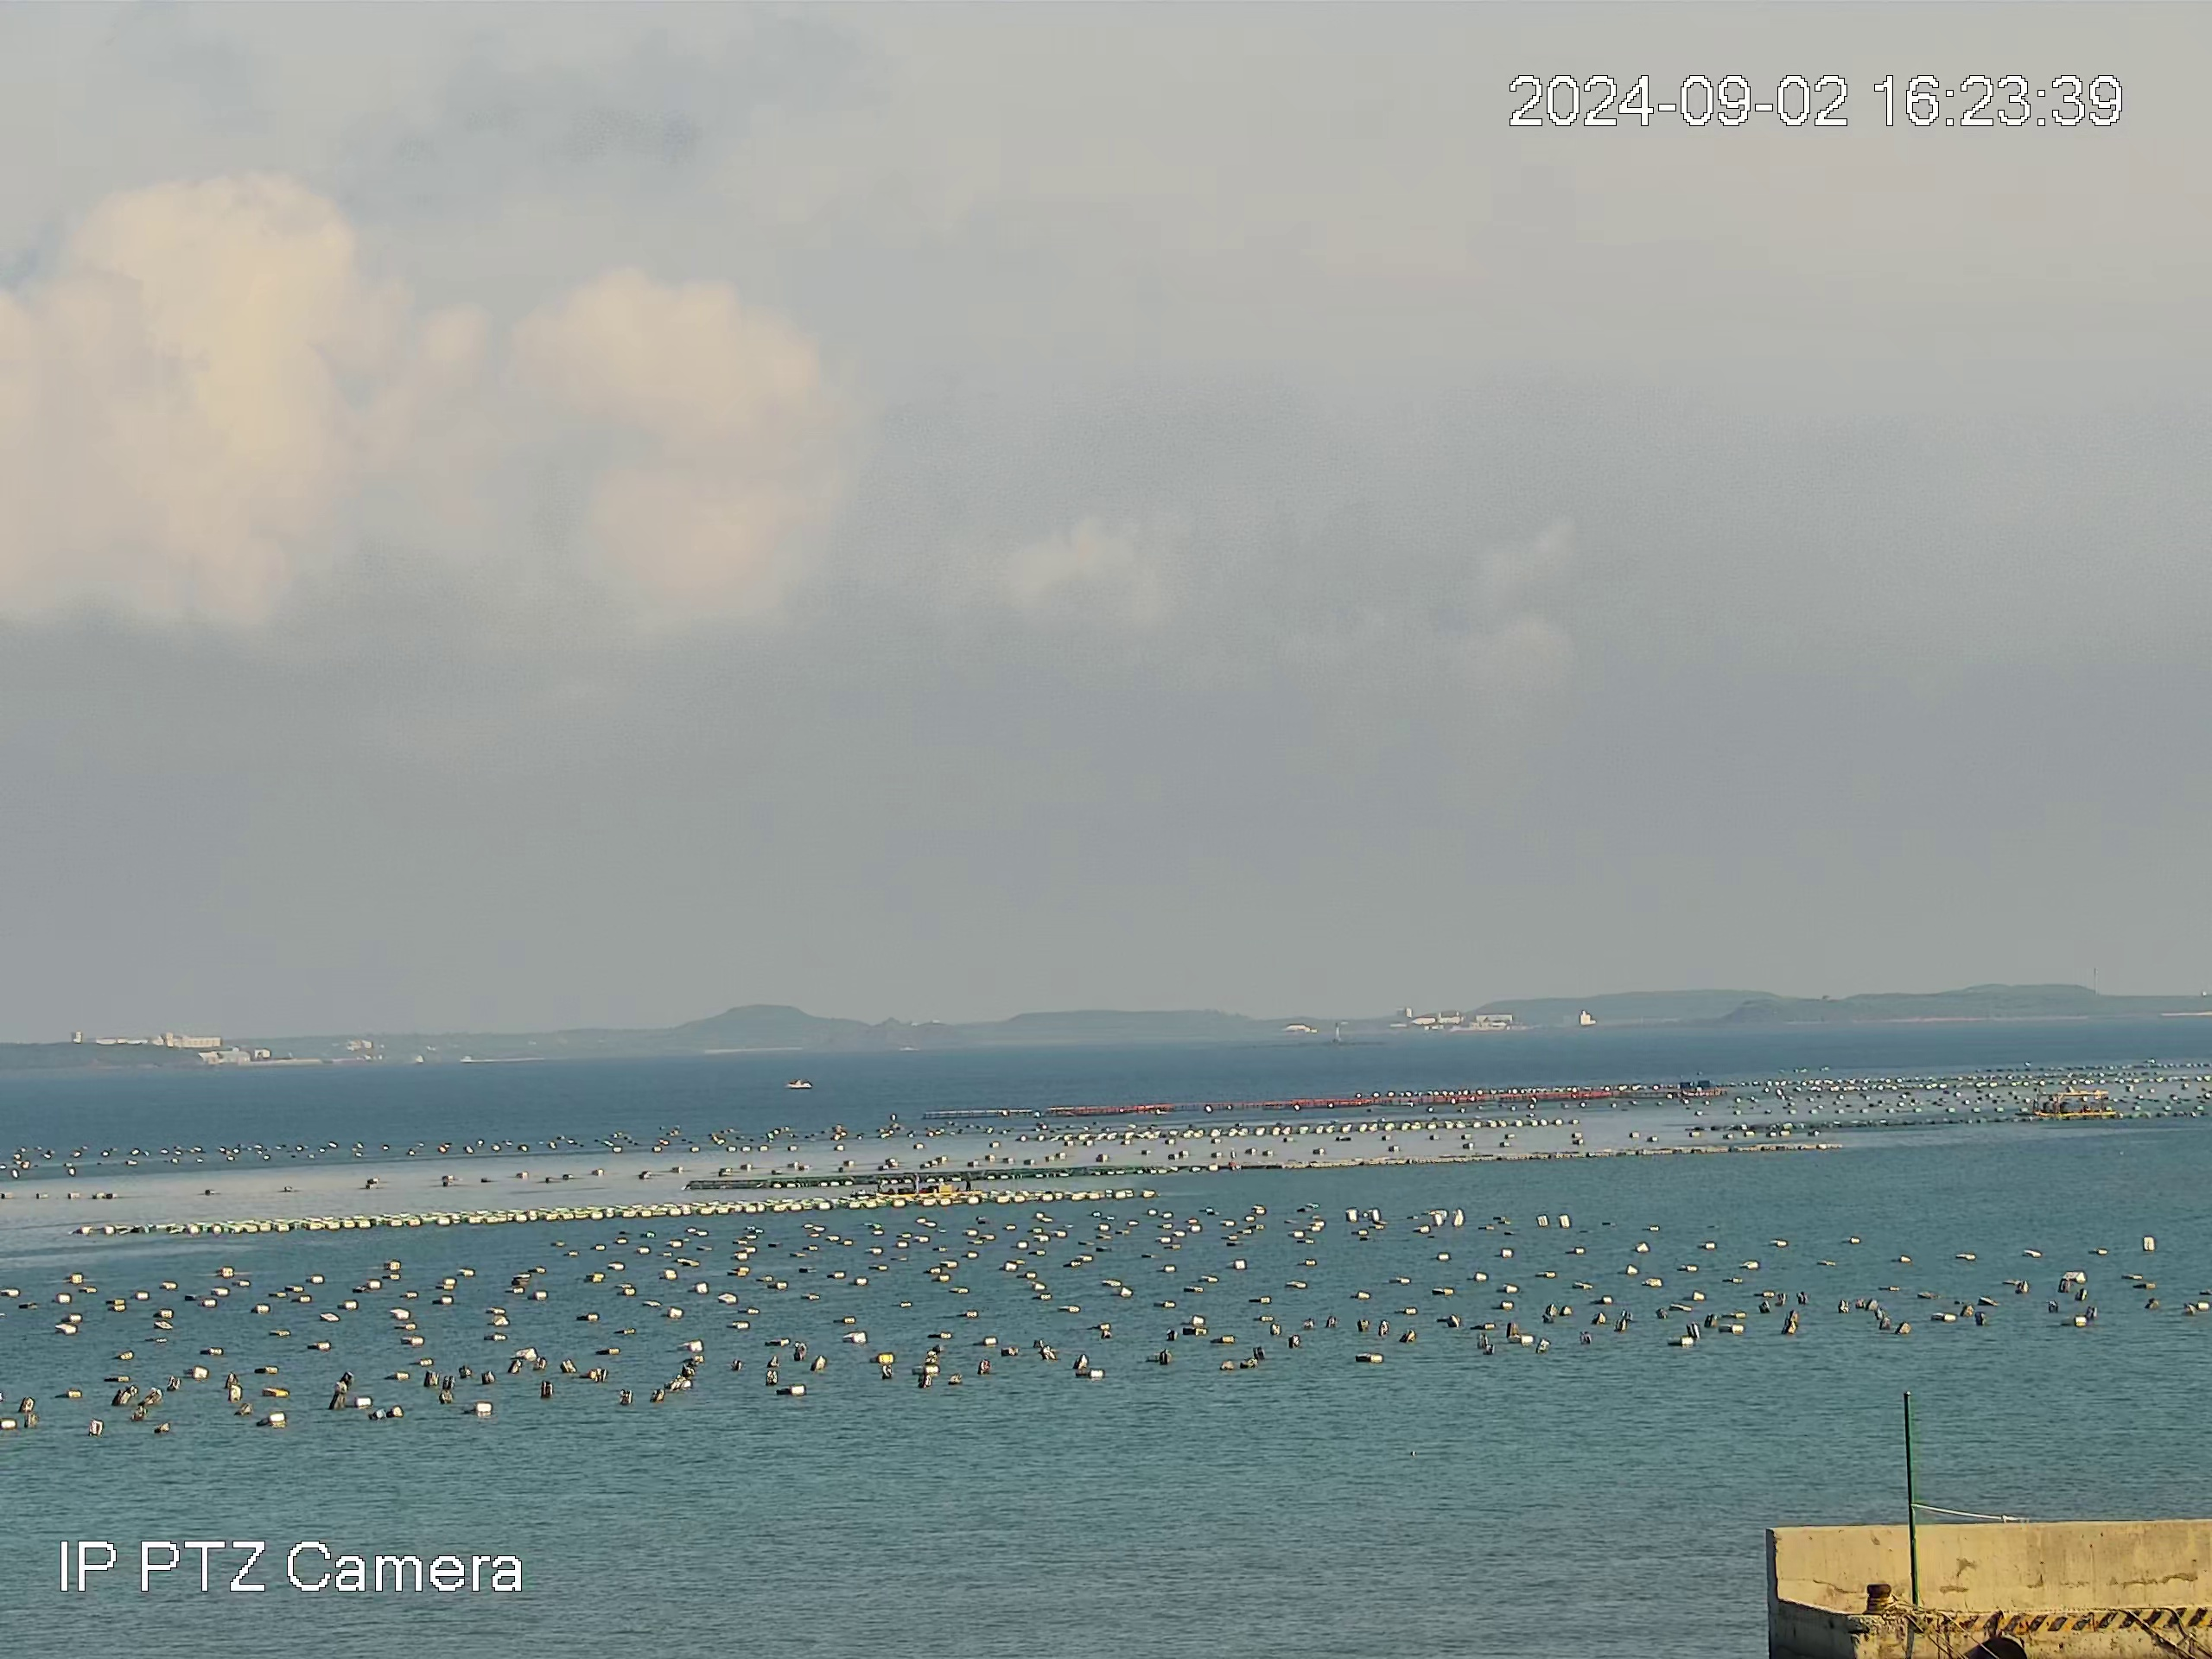boat: (873, 1172, 983, 1198), (2031, 1090, 2116, 1119), (784, 1076, 814, 1090)
